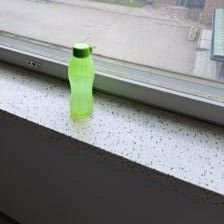bottle: (65, 42, 97, 118)
